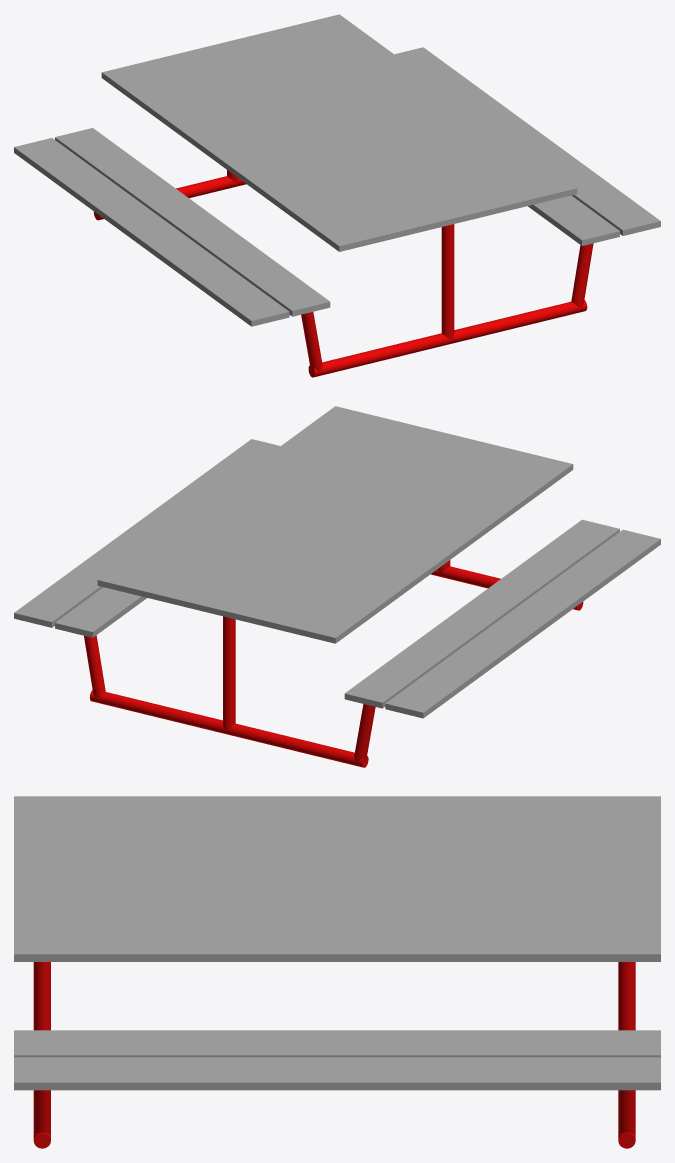
The model's file is BenchTable.fbx.
3 renders of one model, top to bottom at view 1: azimuth 30°, elevation 25°; view 2: azimuth 150°, elevation 25°; view 3: azimuth 270°, elevation 25°, orthographic. The views are drawn at different scales.
Parts seen in each view (by area): view 1: pCube6, pCylinder9; view 2: pCube6, pCylinder9; view 3: pCube6, pCylinder9.
Boxes of the visible parts, x1,y1,x2,y2 form: pCube6: [14, 14, 660, 326]; pCylinder9: [93, 170, 593, 377]; pCube6: [14, 406, 660, 718]; pCylinder9: [84, 560, 583, 767]; pCube6: [14, 796, 660, 1090]; pCylinder9: [33, 962, 635, 1148].
Size of the model in its own units: 149 by 46.65 by 150.
